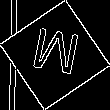M_S: (27, 26, 83, 84)
